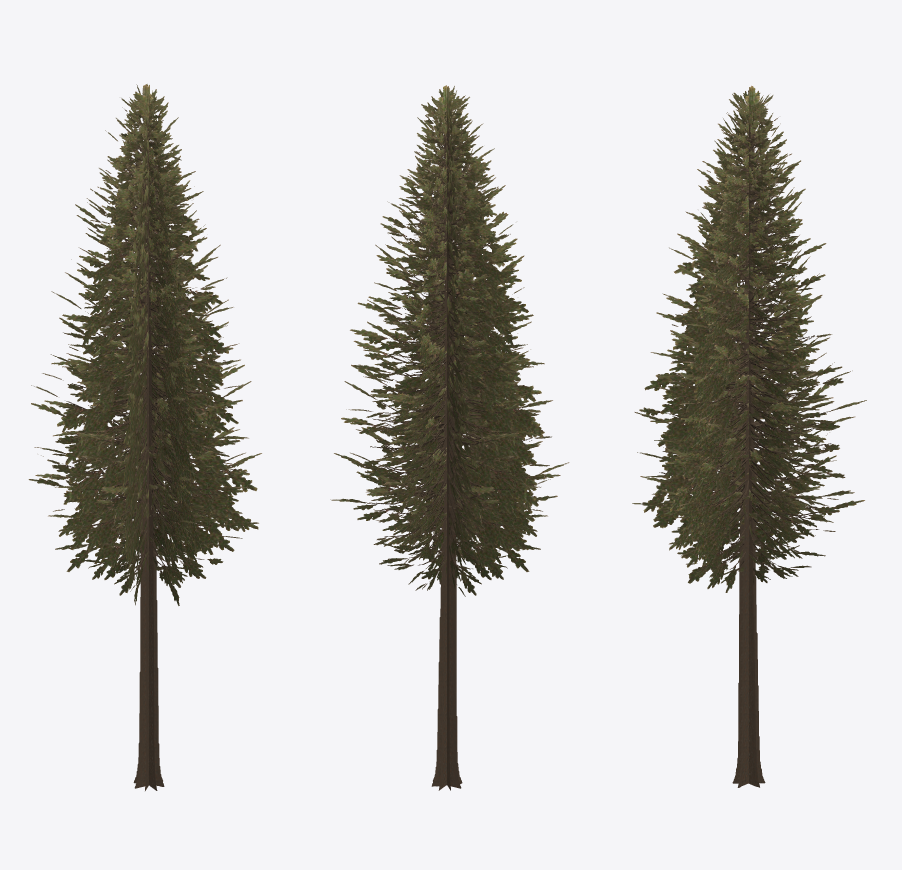
The model's file is fir_tall_b_lod3_cross.gltf.
The picture shows the model from 3 angles, left to right: view 1: azimuth 30°, elevation 25°; view 2: azimuth 150°, elevation 25°; view 3: azimuth 270°, elevation 25°; orthographic projection.
Parts seen in each view (by area): view 1: fir_tall_b_LOD3; view 2: fir_tall_b_LOD3; view 3: fir_tall_b_LOD3.
Part boxes in pixels (x1,y1,x2,y2): fir_tall_b_LOD3: (28, 84, 261, 790); fir_tall_b_LOD3: (330, 85, 569, 790); fir_tall_b_LOD3: (632, 85, 866, 787).
Size of the model in its own units: 12.14 by 34.93 by 12.14.
Materials: 1 (1 with a texture image).
